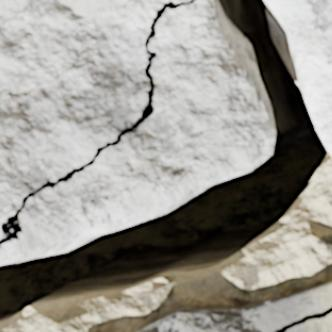brick: (0, 0, 274, 264), (0, 0, 189, 238), (267, 0, 331, 153), (141, 282, 331, 331), (289, 316, 331, 331)
crack: (0, 0, 330, 331), (0, 0, 199, 249), (275, 307, 331, 331)
